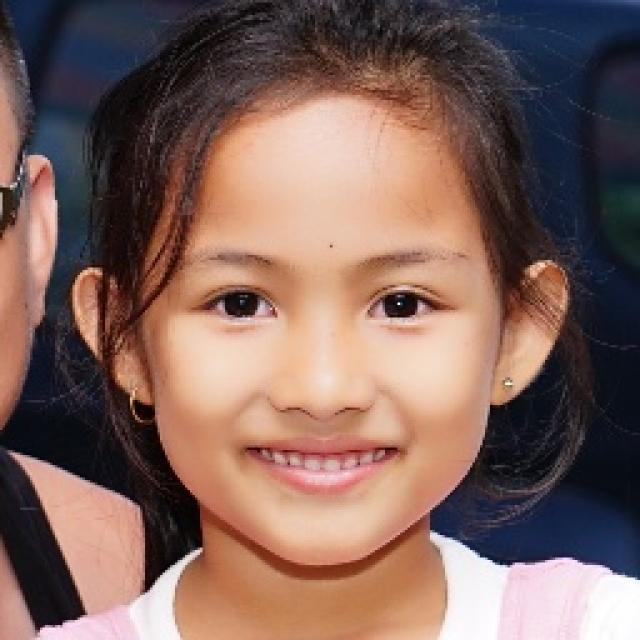earlobe: (487, 261, 570, 408), (72, 267, 155, 406)
